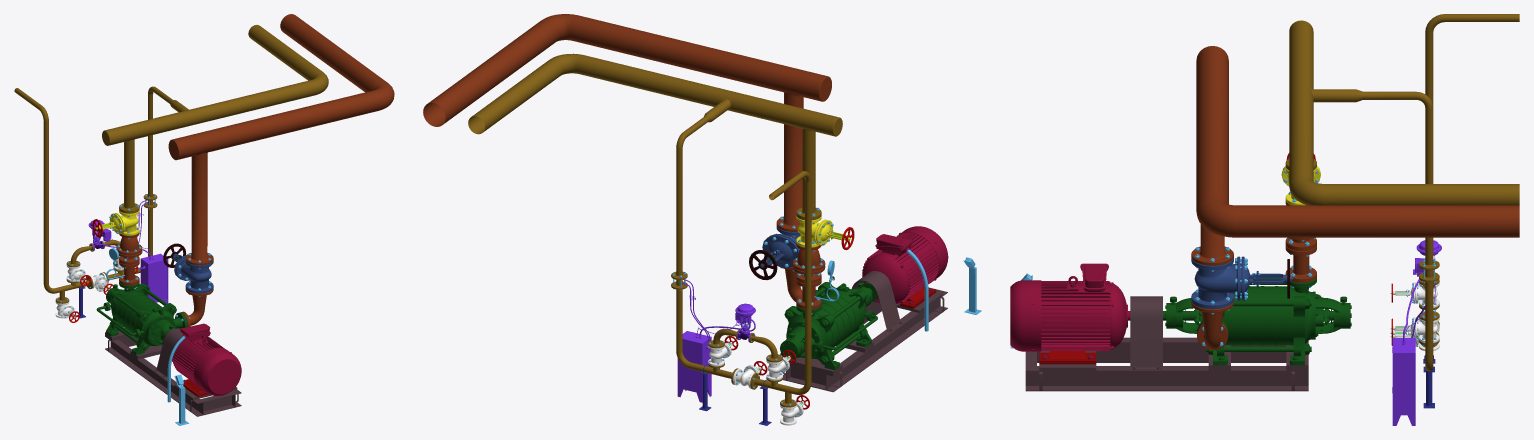
The model's file is Pump.FBX.
The picture shows the model from 3 angles, left to right: view 1: azimuth 30°, elevation 25°; view 2: azimuth 150°, elevation 25°; view 3: azimuth 270°, elevation 25°; orthographic projection. The views are drawn at different scales.
Parts seen in each view (by area): view 1: suction, injection, body, engine, base, devices, details, gate200, gate50, gate150; view 2: suction, injection, body, base, engine, devices, gate50, details, gate200, gate150; view 3: suction, injection, base, engine, body, gate200, devices, gate50, details.
Part boxes in pixels (left/top/right/bottom): suction: left=116, top=14, right=394, bottom=326; injection: left=14, top=25, right=328, bottom=303; body: left=96, top=282, right=187, bottom=354; engine: left=172, top=323, right=241, bottom=396; base: left=105, top=328, right=241, bottom=416; devices: left=88, top=200, right=168, bottom=303; details: left=56, top=194, right=210, bottom=425; gate200: left=163, top=243, right=213, bottom=293; gate50: left=55, top=256, right=137, bottom=322; gate150: left=92, top=210, right=139, bottom=237; suction: left=423, top=14, right=831, bottom=309; injection: left=468, top=53, right=842, bottom=407; body: left=780, top=281, right=878, bottom=370; base: left=782, top=271, right=947, bottom=392; engine: left=862, top=226, right=948, bottom=308; devices: left=677, top=279, right=755, bottom=402; gate50: left=708, top=335, right=809, bottom=425; details: left=672, top=207, right=981, bottom=417; gate200: left=749, top=225, right=800, bottom=280; gate150: left=796, top=216, right=854, bottom=249; suction: left=1191, top=46, right=1519, bottom=350; injection: left=1285, top=14, right=1519, bottom=371; base: left=1025, top=296, right=1308, bottom=391; engine: left=1010, top=263, right=1130, bottom=364; body: left=1163, top=277, right=1351, bottom=365; gate200: left=1191, top=256, right=1292, bottom=309; devices: left=1392, top=240, right=1441, bottom=425; gate50: left=1390, top=282, right=1439, bottom=350; details: left=1010, top=158, right=1436, bottom=348.
Bounding box in the file's own units: 3114 × 2321 × 3149.
